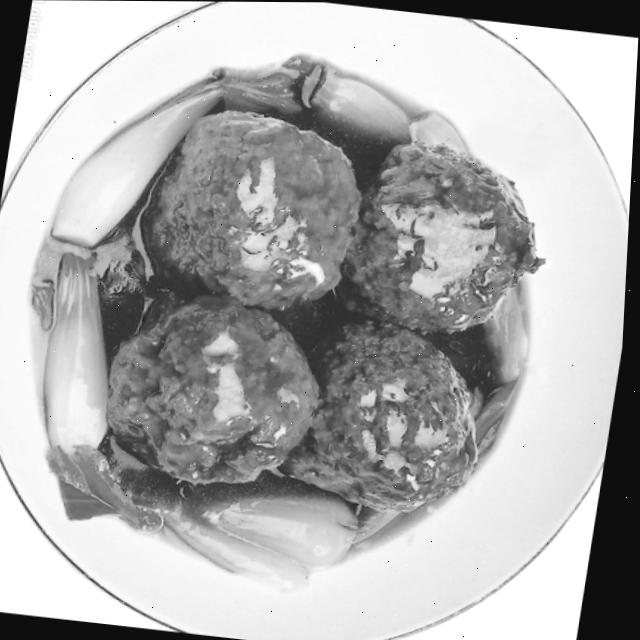猪肉菜式: (0, 5, 640, 631)
